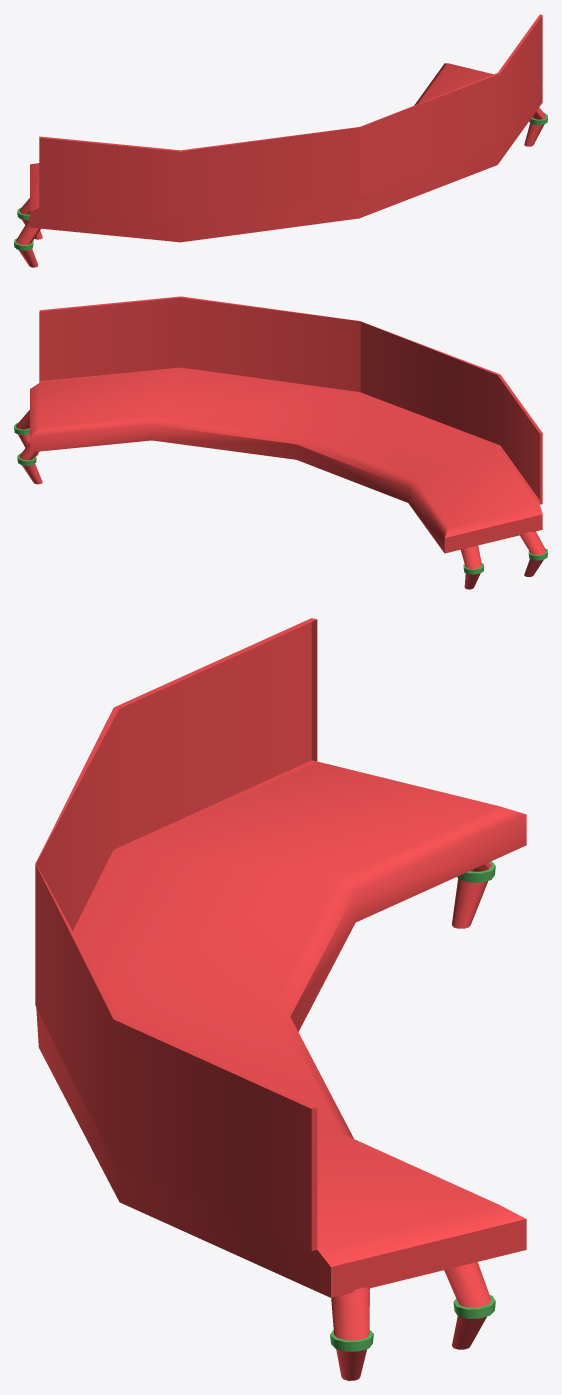
File: obj_Table.fbx
3 renders of one model, top to bottom at view 1: azimuth 30°, elevation 25°; view 2: azimuth 150°, elevation 25°; view 3: azimuth 270°, elevation 25°, orthographic. The views are drawn at different scales.
Parts seen in each view (by area): view 1: Table; view 2: Table; view 3: Table.
Part boxes in pixels (bbox=[...]): Table: bbox=[14, 14, 547, 267]; Table: bbox=[14, 296, 547, 589]; Table: bbox=[35, 618, 526, 1380].
Size of the model in its own units: 9.29 by 2.27 by 3.72.
